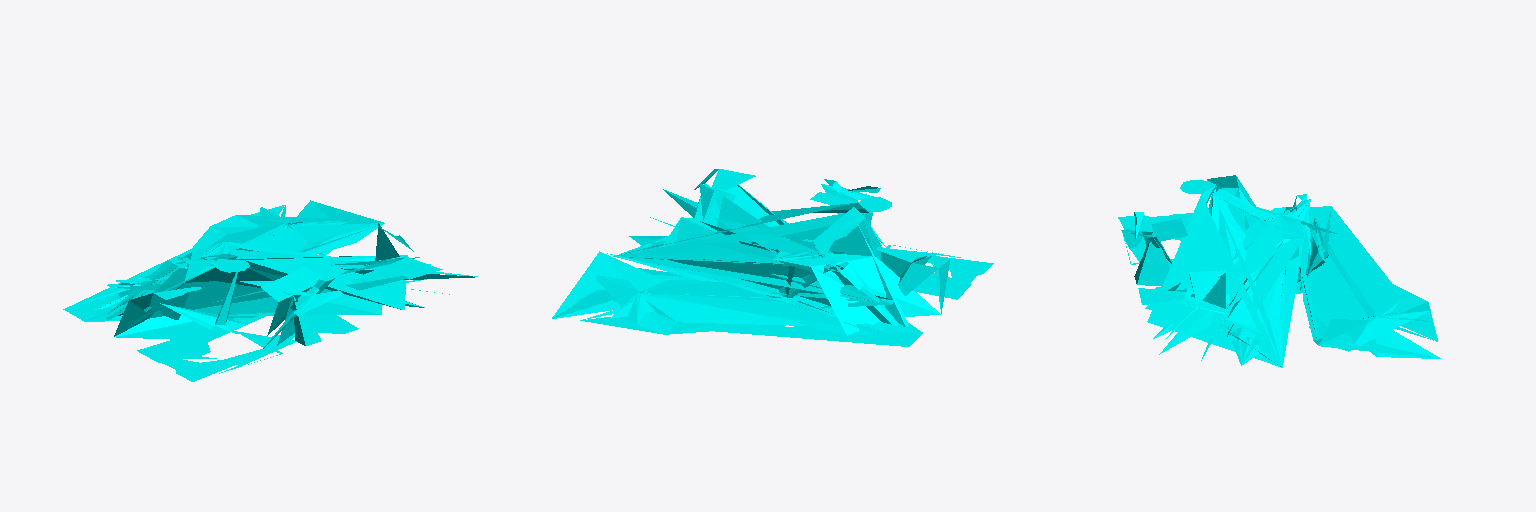
The model's file is test_navmesh_file.obj.
The picture shows the model from 3 angles: view 1: azimuth 30°, elevation 25°; view 2: azimuth 150°, elevation 25°; view 3: azimuth 270°, elevation 25°; orthographic projection.
Parts seen in each view (by area): view 1: Tile 0; view 2: Tile 0; view 3: Tile 0.
Boxes of the visible parts, box(x1,y1,x2,y2) form: Tile 0: box(63, 200, 477, 381); Tile 0: box(552, 169, 993, 346); Tile 0: box(1118, 175, 1440, 367).
Bounding box in the file's own units: 89.7 × 19 × 75.6.